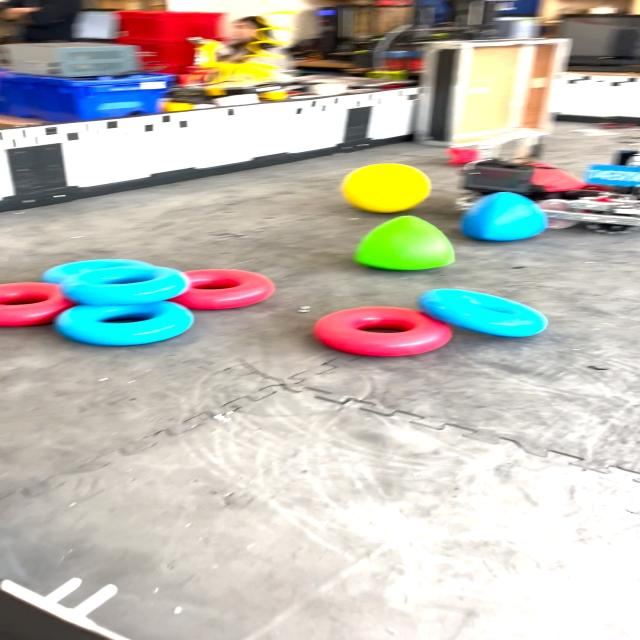Blue-Ring: (418, 289, 547, 336), (56, 301, 193, 345), (60, 265, 191, 305)
Red-Ring: (313, 306, 451, 356), (171, 269, 276, 310), (0, 282, 73, 326)
